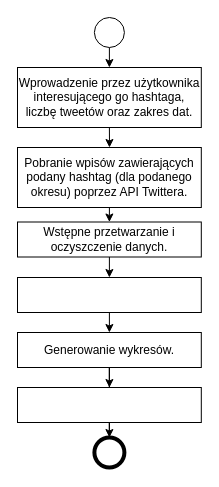
The diagram is 219 pixels wide and 487 high, and some of its shapes have lost their labels. The shapes that lost their labels are listed below. From the top down, each one's centre as x and y in pixels, then its label:
(108,294): Analiza sentymentu.
(108,404): Wyświetlnie rozwiązania.
